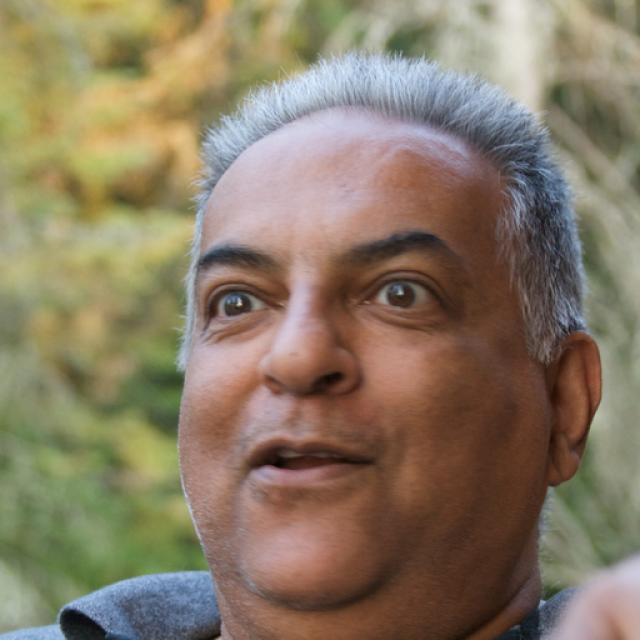surprise: (176, 106, 548, 612)
